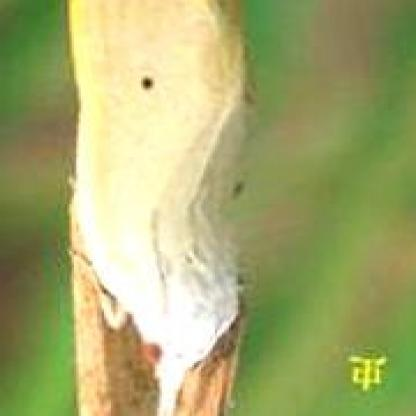stem-borer: (62, 0, 257, 416)
